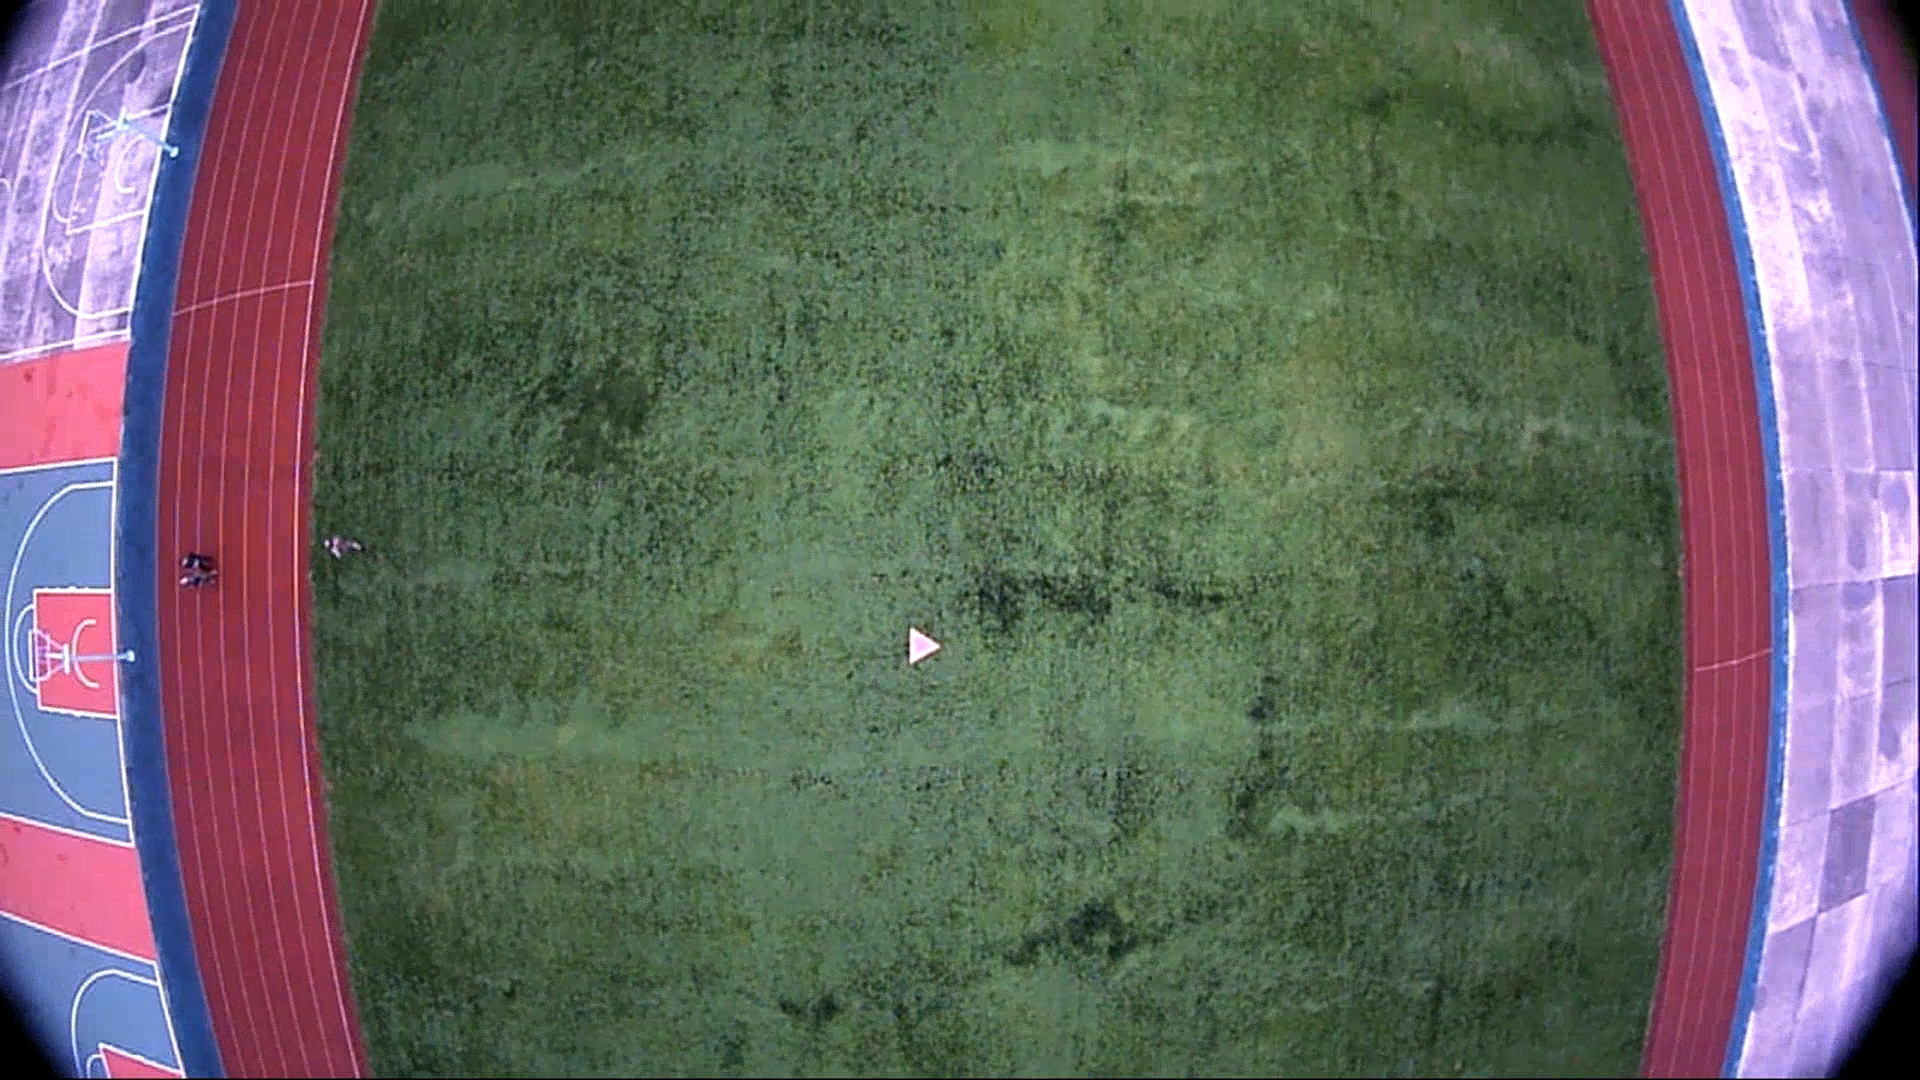triangle: (905, 618, 945, 667)
